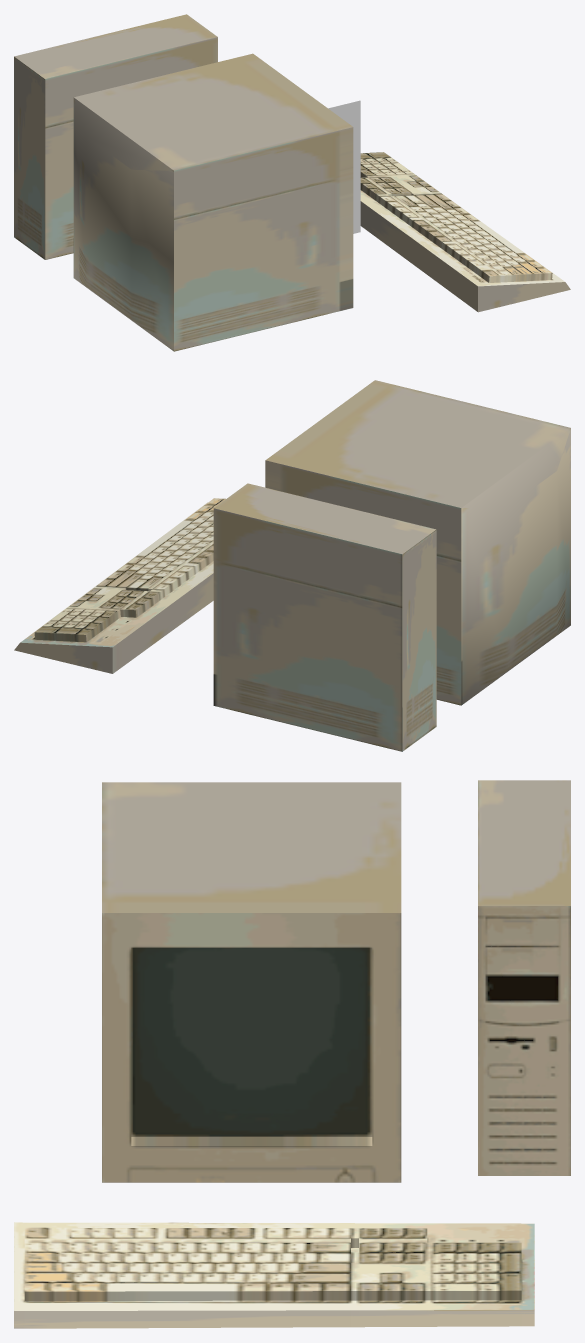
Rendered from VintageTexture5.glb.
3 renders of one model, top to bottom at view 1: azimuth 30°, elevation 25°; view 2: azimuth 150°, elevation 25°; view 3: azimuth 270°, elevation 25°, orthographic. The views are drawn at different scales.
Visible parts, largest first — view 1: Cube.001, Cube, Cube.002, ScreenPlane; view 2: Cube.001, Cube, Cube.002; view 3: Cube.001, Cube.002, Cube.
Part boxes in pixels (x1,y1,x2,y2): Cube.001: [73, 53, 353, 351]; Cube: [14, 14, 217, 259]; Cube.002: [360, 152, 570, 312]; ScreenPlane: [328, 100, 360, 233]; Cube.001: [265, 380, 570, 705]; Cube: [213, 483, 436, 751]; Cube.002: [14, 498, 225, 673]; Cube.001: [102, 782, 401, 1182]; Cube.002: [14, 1222, 534, 1328]; Cube: [478, 780, 570, 1175].
Size of the model in its own units: 4.42 by 2.07 by 3.74.
Materials: 1 (1 with a texture image).
